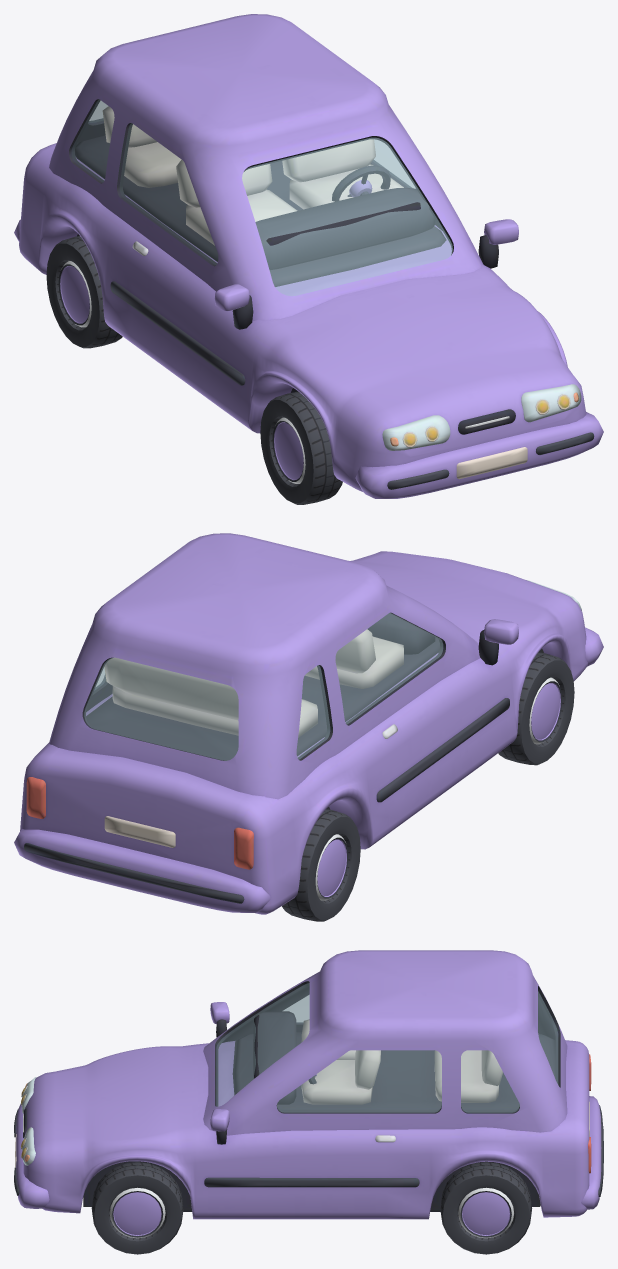
File: 1990s-compact-car.glb
3 views of the same model, one above another, from view 1: azimuth 30°, elevation 25°; view 2: azimuth 150°, elevation 25°; view 3: azimuth 270°, elevation 25° (orthographic). The views are drawn at different scales.
Visible parts, largest first — view 1: 1990s-compact-car_body, 1990s-compact-car_windows, 1990s-compact-car_wheel_fr, 1990s-compact-car_wheel_rr; view 2: 1990s-compact-car_body, 1990s-compact-car_windows, 1990s-compact-car_wheel_rr, 1990s-compact-car_wheel_fr; view 3: 1990s-compact-car_body, 1990s-compact-car_windows, 1990s-compact-car_wheel_fl, 1990s-compact-car_wheel_rl.
Boxes of the visible parts, x1,y1,x2,y2 form: 1990s-compact-car_body: (14,14,603,498); 1990s-compact-car_windows: (72,99,452,295); 1990s-compact-car_wheel_fr: (260,391,342,504); 1990s-compact-car_wheel_rr: (46,236,122,348); 1990s-compact-car_body: (14,533,603,914); 1990s-compact-car_windows: (84,613,442,760); 1990s-compact-car_wheel_rr: (282,809,360,921); 1990s-compact-car_wheel_fr: (498,652,574,765); 1990s-compact-car_body: (14,950,603,1219); 1990s-compact-car_windows: (216,983,557,1112); 1990s-compact-car_wheel_fl: (91,1162,183,1254); 1990s-compact-car_wheel_rl: (440,1162,532,1254).
Size of the model in its own units: 1.78 by 1.53 by 3.72.
Materials: 18 (5 with a texture image).
